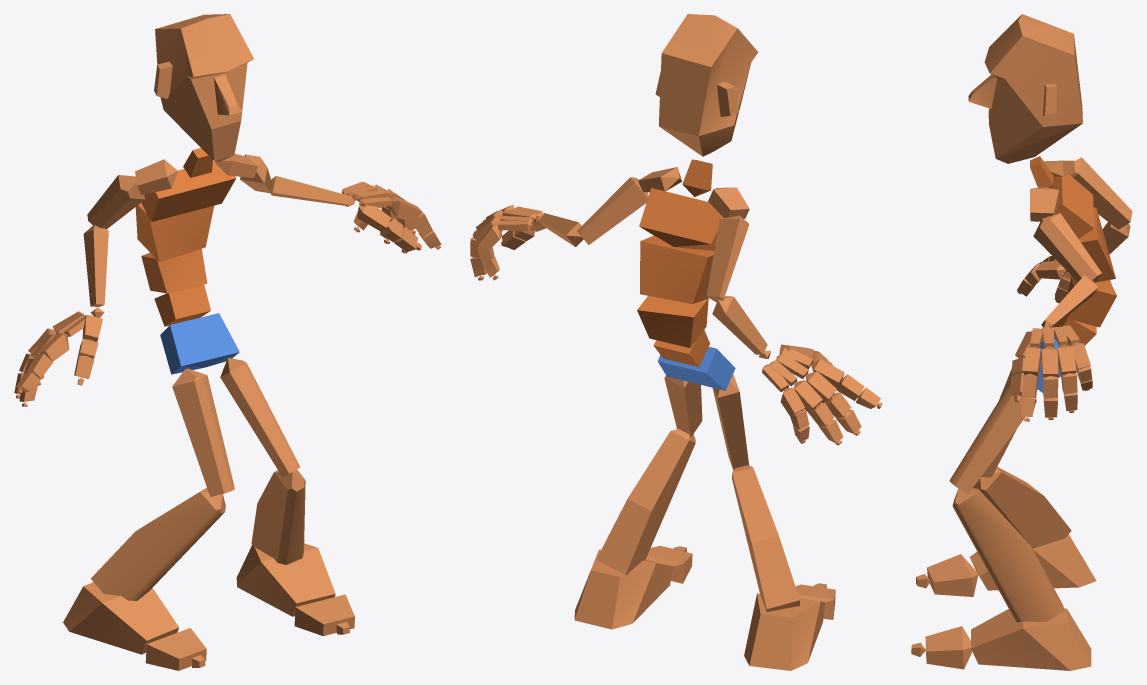
File: prueba30.obj
3 renders of one model, left to right at view 1: azimuth 30°, elevation 25°; view 2: azimuth 150°, elevation 25°; view 3: azimuth 270°, elevation 25°, orthographic.
Parts seen in each view (by area): view 1: BOPED_Head, BOPED_R_leg, BOPED_R_foot, BOPED_R_foot01, BOPED_R_legup, BOPED_L_leg, Bone01, BOPED_L_legup, Bone04, Bone05, Bone03, BOPED_R_arm_upper (+9 smaller); view 2: BOPED_Head, BOPED_L_leg, BOPED_R_foot01, BOPED_R_leg, BOPED_R_foot, Bone04, Bone05, Bone03, BOPED_R_arm_upper, BOPED_L_arm_upper, BOPED_R_legup, Bone01 (+9 smaller); view 3: BOPED_Head, BOPED_L_leg, BOPED_R_foot01, BOPED_R_leg, BOPED_L_legup, BOPED_R_foot, BOPED_L_arm_upper, BOPED_R_arm_upper, Bone05, BOPED_R_foot_toe01, BOPED_R_foot_toe04, Bone03 (+15 smaller).
Boxes of the visible parts, x1=… form: BOPED_Head: x1=154, y1=14, x2=253, y2=162; BOPED_R_leg: x1=90, y1=487, x2=225, y2=600; BOPED_R_foot: x1=63, y1=582, x2=179, y2=654; BOPED_R_foot01: x1=236, y1=543, x2=335, y2=616; BOPED_R_legup: x1=172, y1=368, x2=234, y2=496; BOPED_L_leg: x1=251, y1=469, x2=305, y2=564; Bone01: x1=160, y1=313, x2=239, y2=374; BOPED_L_legup: x1=220, y1=358, x2=300, y2=477; Bone04: x1=135, y1=203, x2=213, y2=262; Bone05: x1=141, y1=161, x2=236, y2=221; Bone03: x1=141, y1=249, x2=207, y2=293; BOPED_R_arm_upper: x1=87, y1=175, x2=144, y2=229; BOPED_Head: x1=655, y1=14, x2=758, y2=156; BOPED_L_leg: x1=596, y1=429, x2=695, y2=575; BOPED_R_foot01: x1=574, y1=549, x2=673, y2=629; BOPED_R_leg: x1=732, y1=465, x2=799, y2=611; BOPED_R_foot: x1=744, y1=593, x2=824, y2=670; Bone04: x1=640, y1=235, x2=714, y2=303; Bone05: x1=639, y1=188, x2=723, y2=250; Bone03: x1=637, y1=296, x2=708, y2=347; BOPED_R_arm_upper: x1=706, y1=215, x2=749, y2=302; BOPED_L_arm_upper: x1=577, y1=177, x2=648, y2=244; BOPED_R_legup: x1=712, y1=374, x2=749, y2=470; Bone01: x1=657, y1=346, x2=735, y2=390; BOPED_Head: x1=968, y1=14, x2=1082, y2=163; BOPED_L_leg: x1=952, y1=488, x2=1064, y2=622; BOPED_R_foot01: x1=971, y1=608, x2=1091, y2=670; BOPED_R_leg: x1=973, y1=467, x2=1071, y2=548; BOPED_L_legup: x1=949, y1=382, x2=1036, y2=494; BOPED_R_foot: x1=969, y1=534, x2=1096, y2=590; BOPED_L_arm_upper: x1=1033, y1=213, x2=1101, y2=282; BOPED_R_arm_upper: x1=1070, y1=157, x2=1132, y2=229; Bone05: x1=1052, y1=175, x2=1094, y2=238; BOPED_R_foot_toe01: x1=927, y1=554, x2=978, y2=596; BOPED_R_foot_toe04: x1=925, y1=626, x2=972, y2=669; Bone03: x1=1066, y1=277, x2=1116, y2=327.
Bounding box in the file's own units: 130 × 181 × 60.71.
